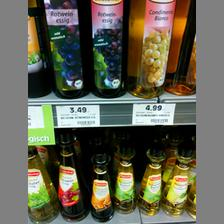Essig: (40, 0, 90, 96), (129, 0, 174, 96), (87, 0, 128, 96), (26, 145, 60, 223), (57, 135, 87, 221), (85, 152, 115, 222), (162, 146, 190, 218), (141, 142, 165, 218), (113, 146, 137, 214)
